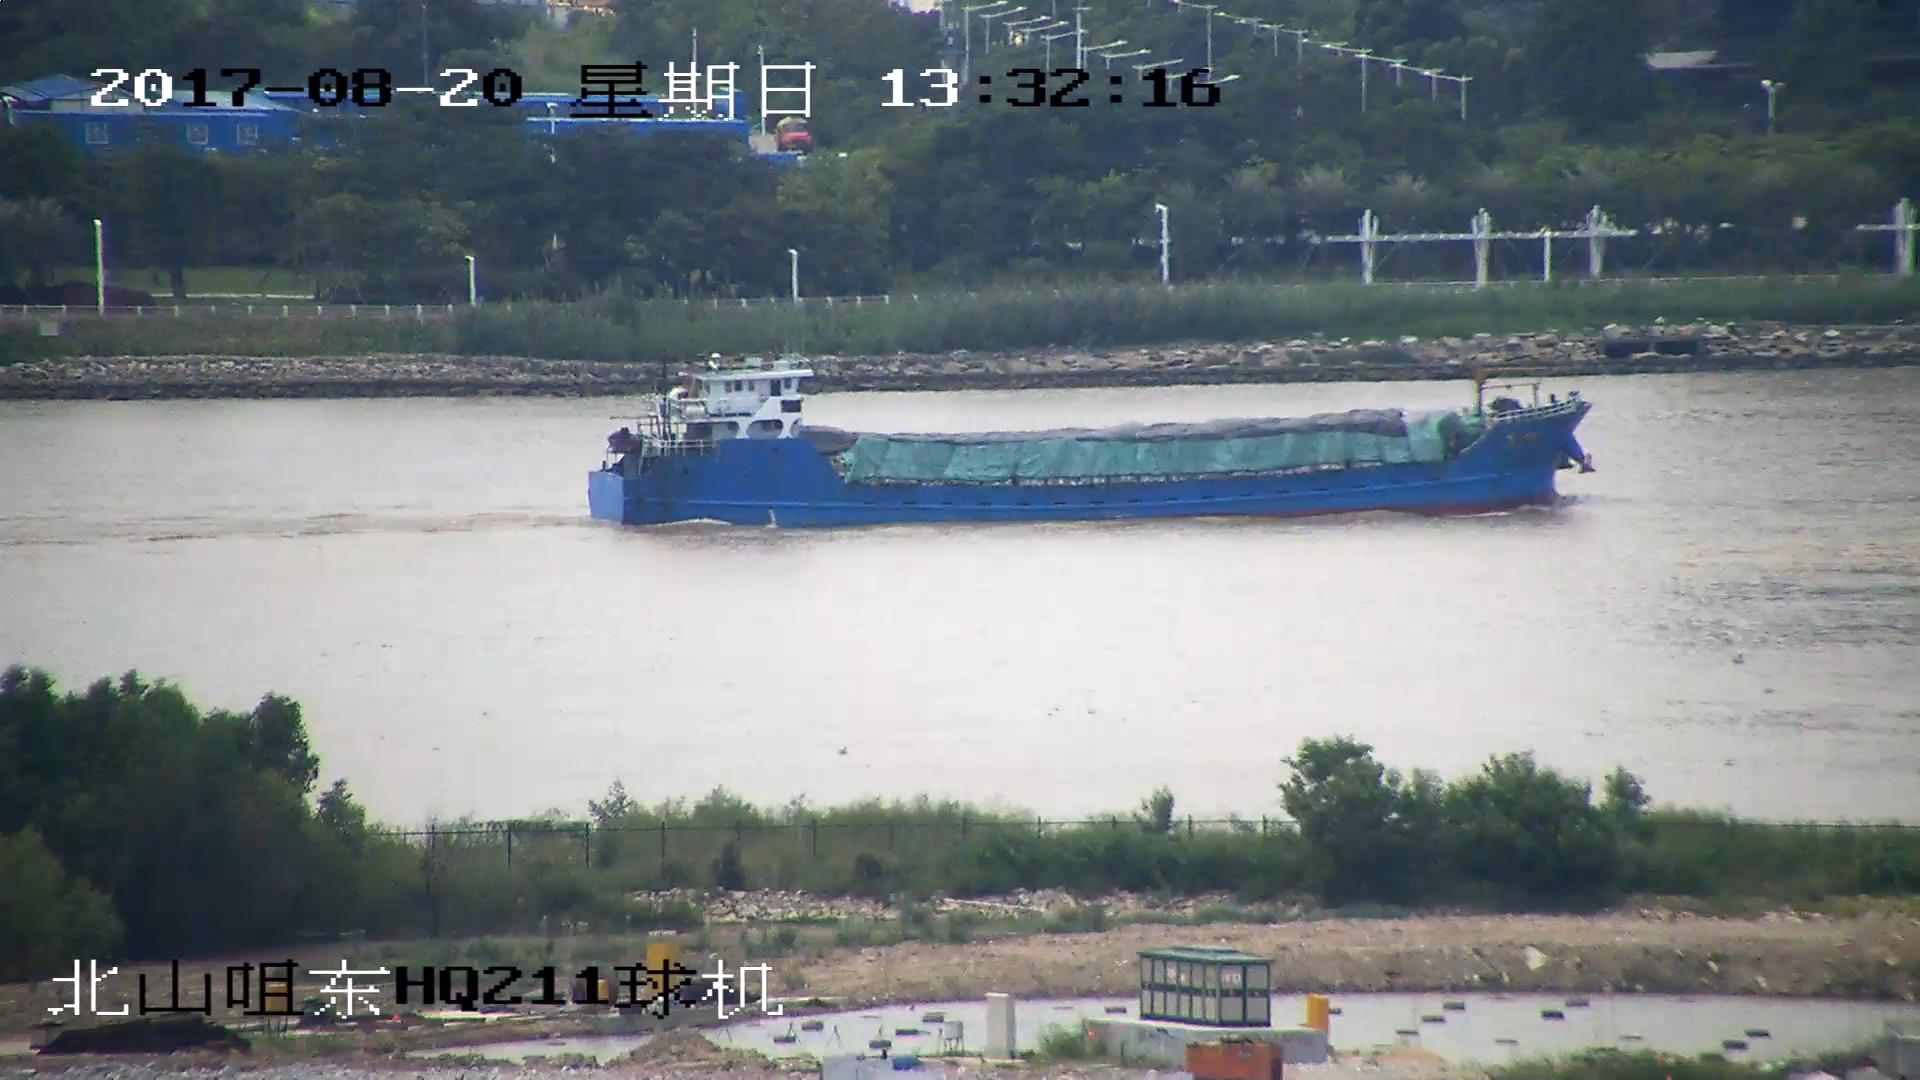general cargo ship: (589, 356, 1593, 528)
